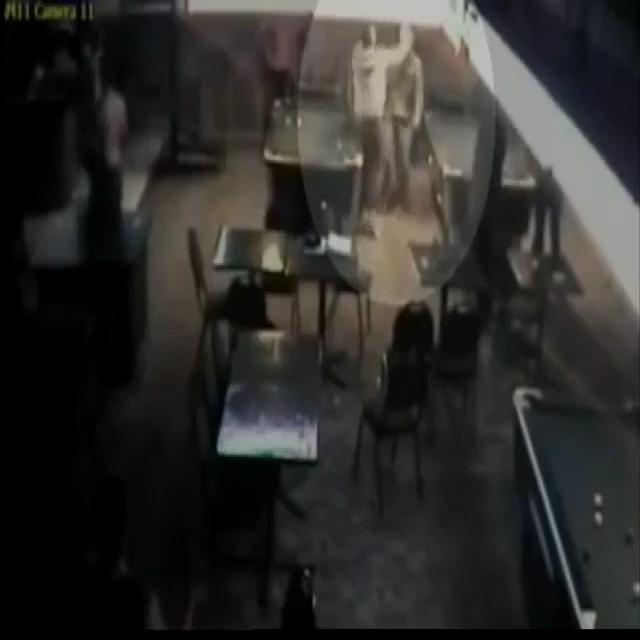fight: (350, 14, 423, 244)
